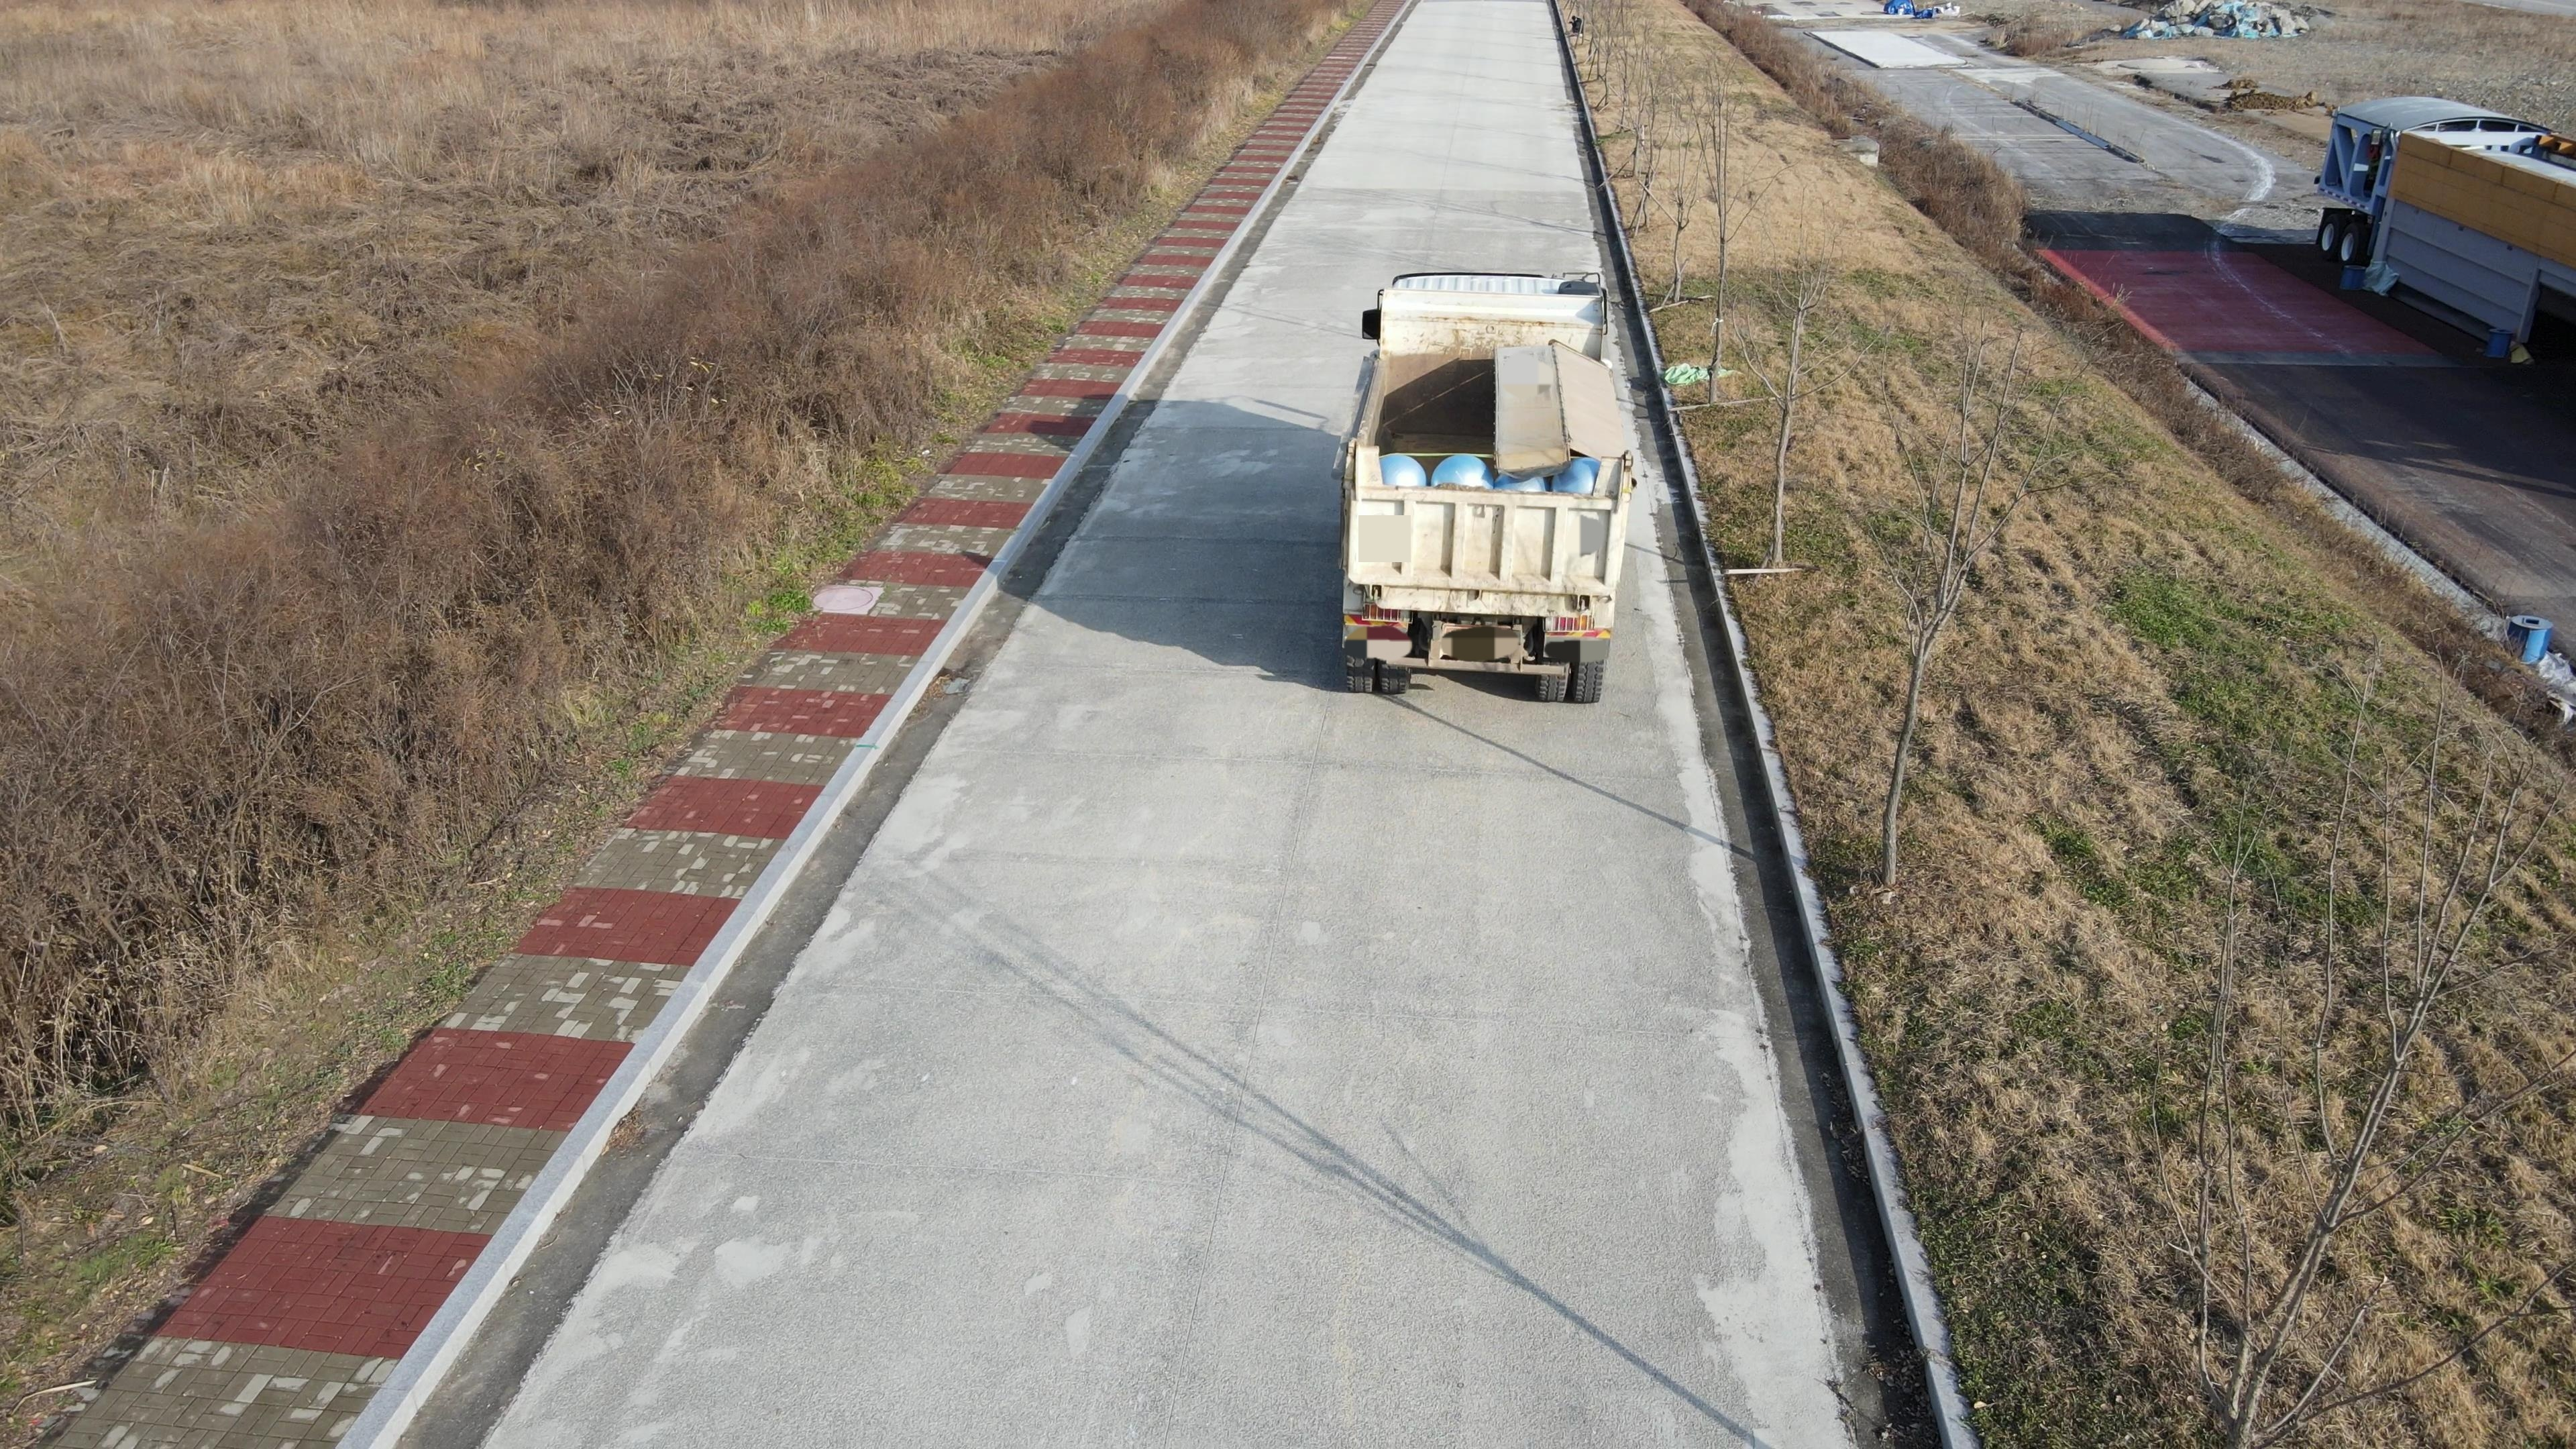불법차량: (1332, 267, 1635, 706)
